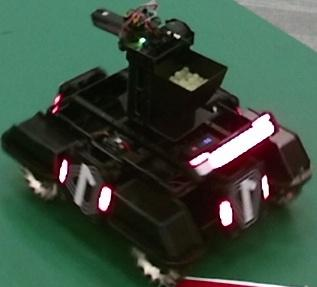armor_1: (60, 159, 113, 211), (220, 176, 271, 227)
back_1: (231, 170, 264, 229)
left_1: (68, 161, 101, 213)
light: (192, 112, 276, 176)
